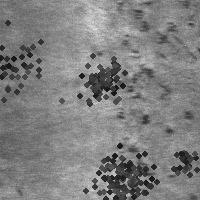rolled-in_scale: (109, 46, 167, 197), (0, 6, 67, 120), (70, 129, 174, 200), (78, 136, 162, 200), (117, 1, 198, 59), (66, 44, 130, 108), (165, 139, 200, 179)
